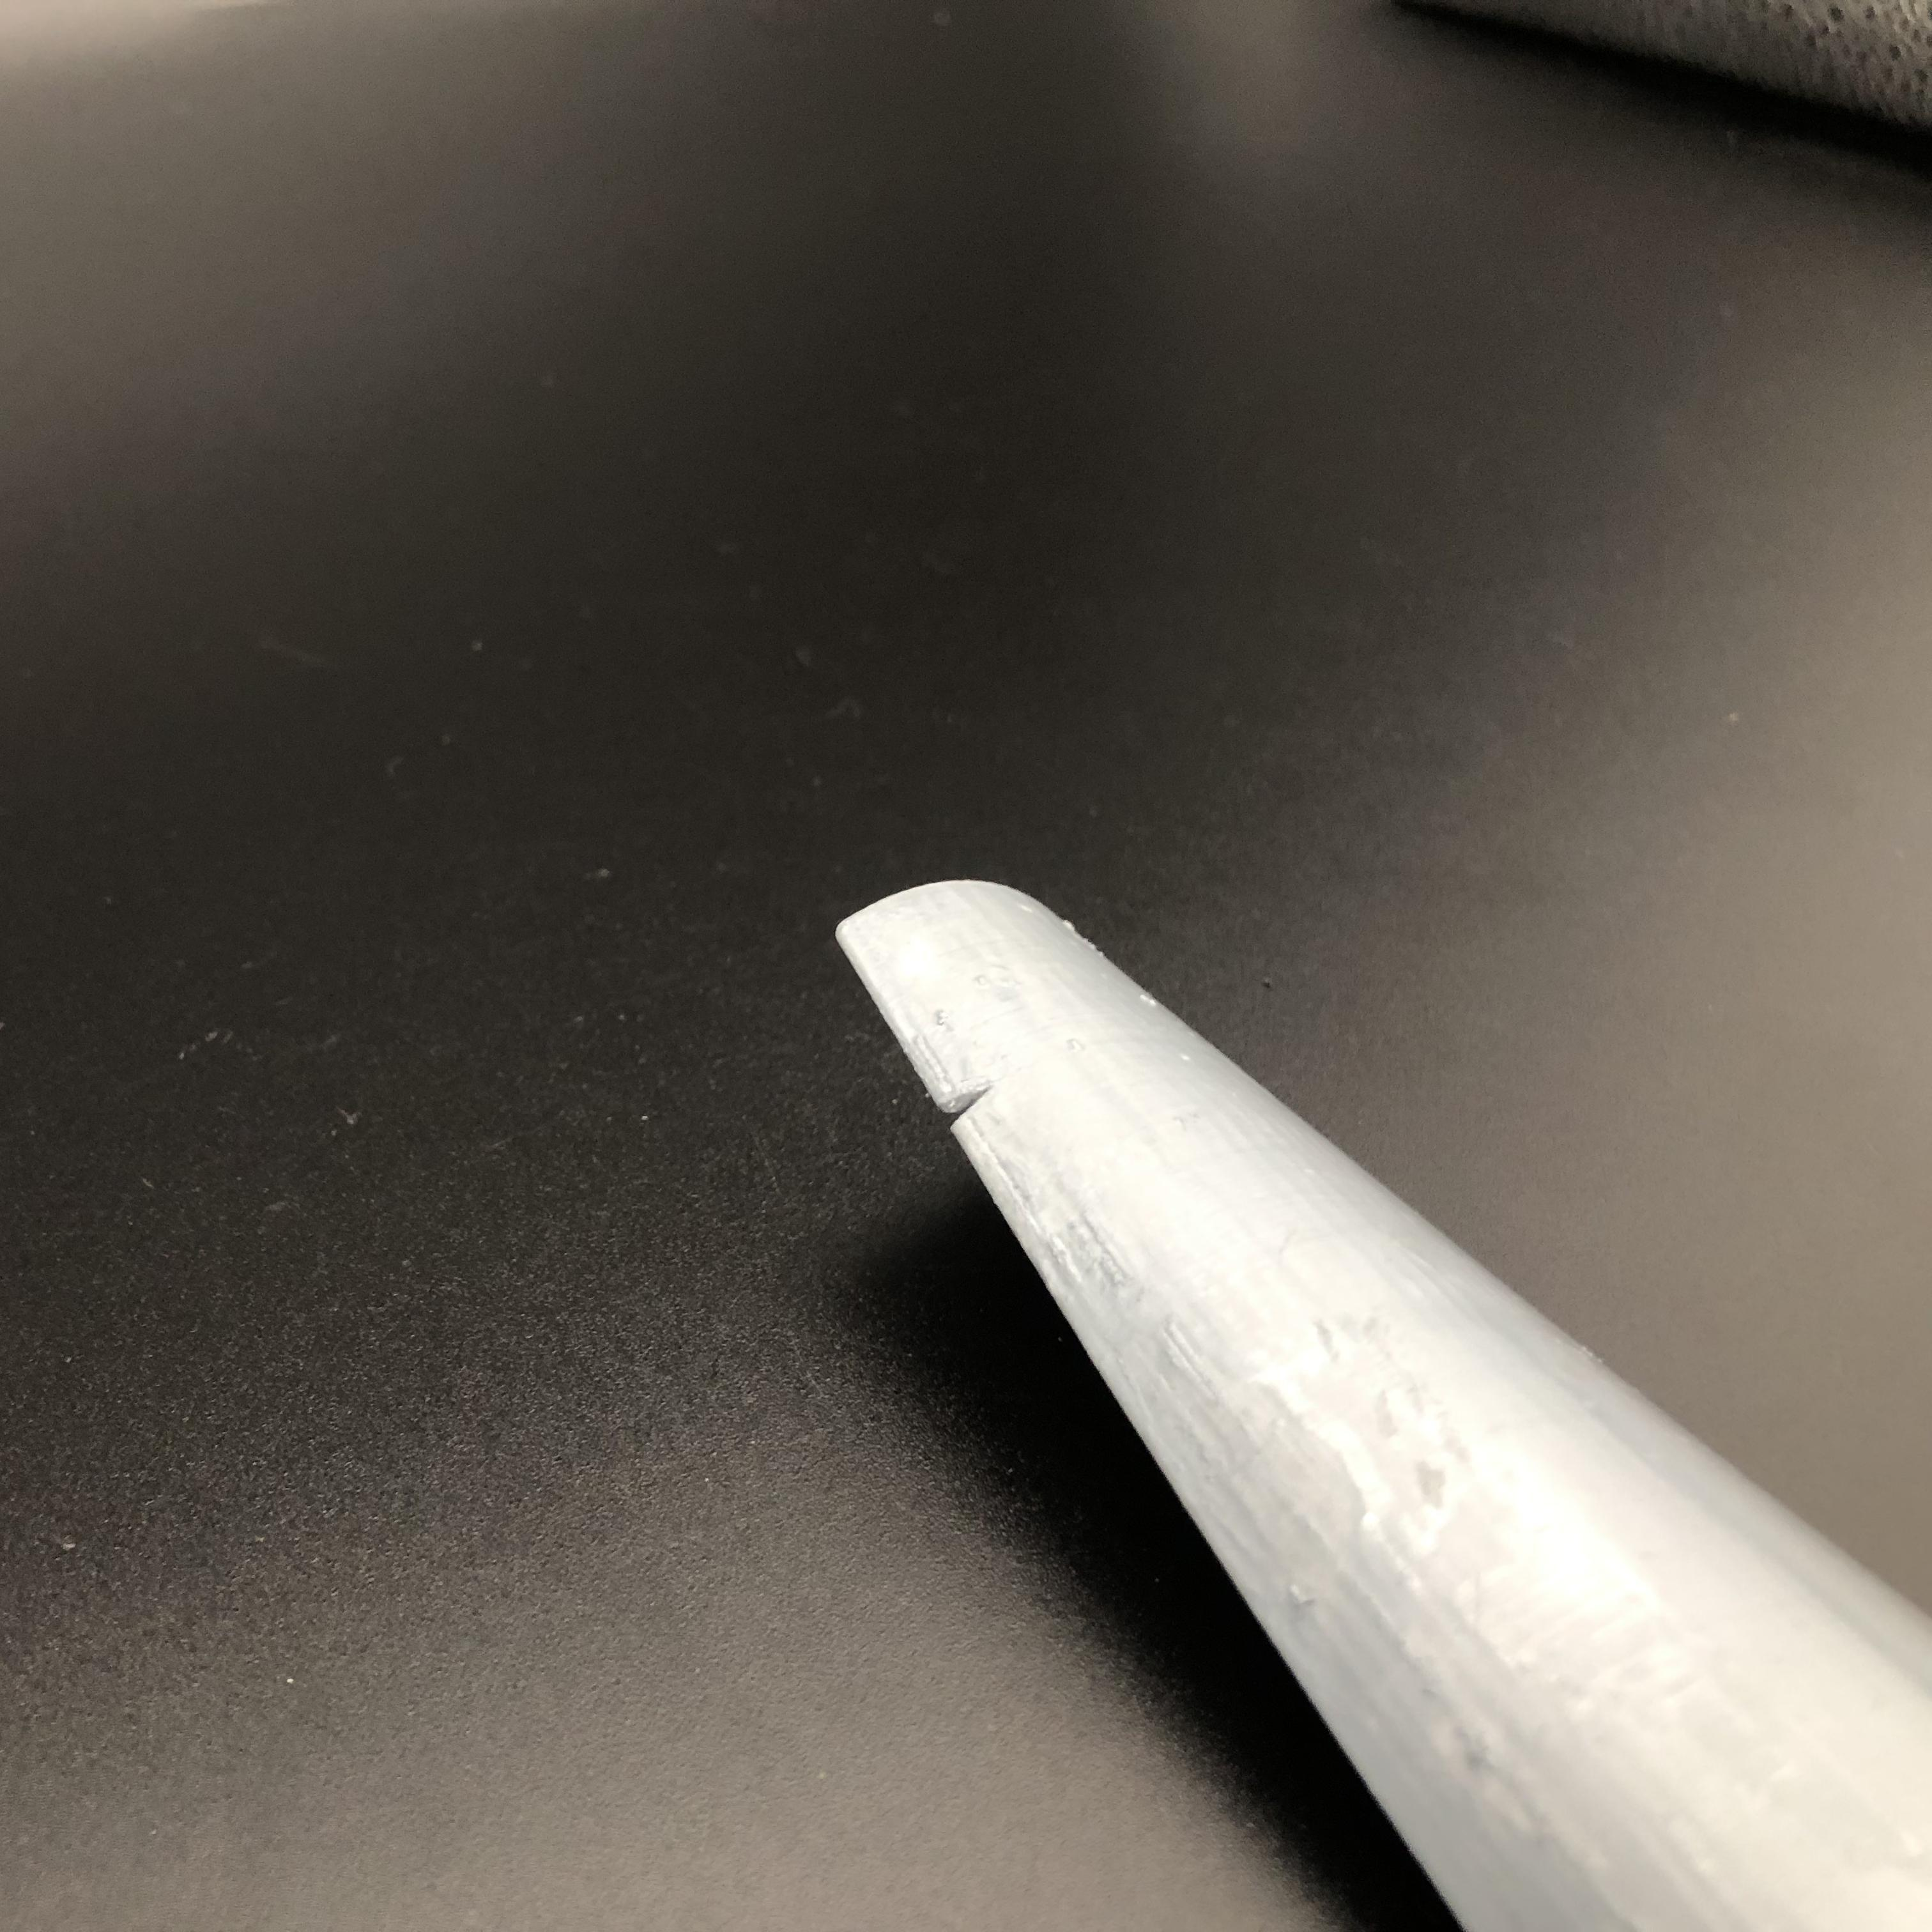groove: (934, 1067, 998, 1141)
